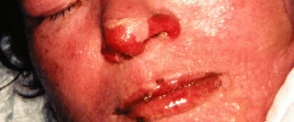SJS-TEN: (103, 67, 233, 122), (94, 7, 188, 70)
